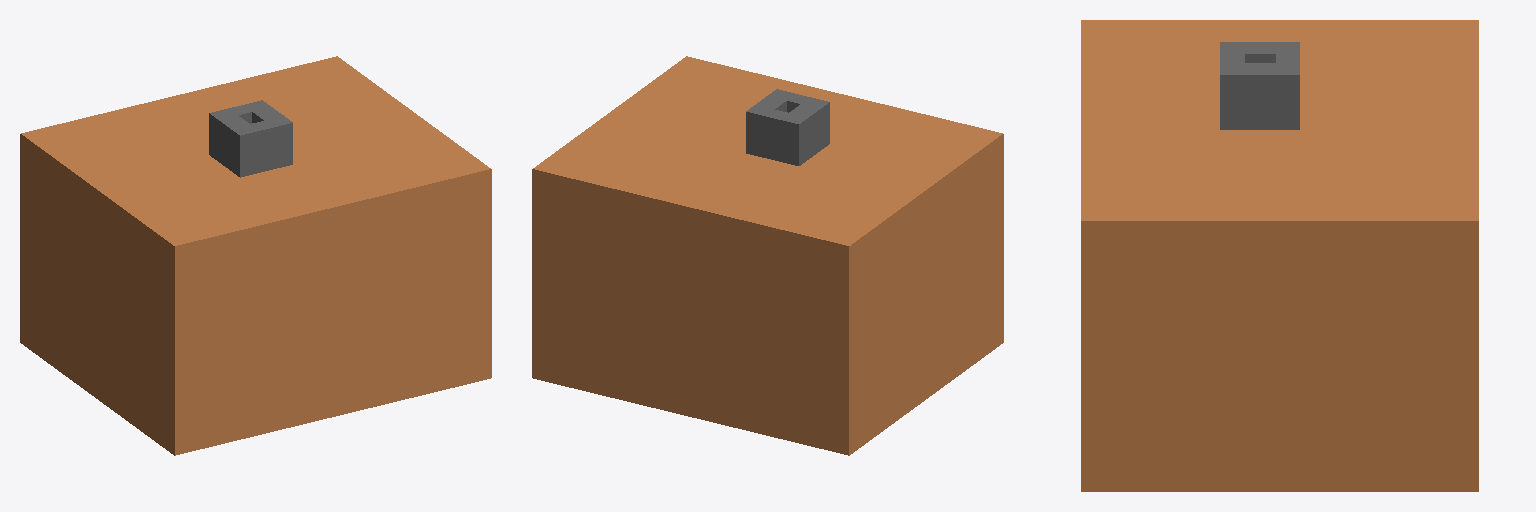
robot.urdf — peg_in_hole_tolerances_scenes_val_scene_0009_tol09:
<?xml version="1.0"?>
<robot name="peg_in_hole_tolerances_scenes_val_scene_0009_tol09">
  <material name="wood"><color rgba="0.82 0.56 0.35 1.0"/></material>
  <material name="hole_grey"><color rgba="0.4706 0.4706 0.4706 1.0"/></material>
  <link name="box">
    <visual>
      <origin xyz="0.000000 0.000000 0.000000" rpy="0 0 0"/>
      <geometry><box size="0.475000 0.400000 0.300000"/></geometry>
      <material name="wood"/>
    </visual>
    <collision>
      <origin xyz="0.000000 0.000000 0.000000" rpy="0 0 0"/>
      <geometry><box size="0.475000 0.400000 0.300000"/></geometry>
    </collision>
    <visual>
      <origin xyz="-0.018497 -0.019793 0.155000" rpy="0 0 0"/>
      <geometry><box size="0.080000 0.080000 0.010000"/></geometry>
      <material name="hole_grey"/>
    </visual>
    <collision>
      <origin xyz="-0.018497 -0.019793 0.155000" rpy="0 0 0"/>
      <geometry><box size="0.080000 0.080000 0.010000"/></geometry>
    </collision>
    <visual>
      <origin xyz="0.006745 -0.019793 0.185000" rpy="0 0 0"/>
      <geometry><box size="0.029515 0.080000 0.050000"/></geometry>
      <material name="hole_grey"/>
    </visual>
    <collision>
      <origin xyz="0.006745 -0.019793 0.185000" rpy="0 0 0"/>
      <geometry><box size="0.029515 0.080000 0.050000"/></geometry>
    </collision>
    <visual>
      <origin xyz="-0.043739 -0.019793 0.185000" rpy="0 0 0"/>
      <geometry><box size="0.029515 0.080000 0.050000"/></geometry>
      <material name="hole_grey"/>
    </visual>
    <collision>
      <origin xyz="-0.043739 -0.019793 0.185000" rpy="0 0 0"/>
      <geometry><box size="0.029515 0.080000 0.050000"/></geometry>
    </collision>
    <visual>
      <origin xyz="-0.018497 0.007949 0.185000" rpy="0 0 0"/>
      <geometry><box size="0.020969 0.024515 0.050000"/></geometry>
      <material name="hole_grey"/>
    </visual>
    <collision>
      <origin xyz="-0.018497 0.007949 0.185000" rpy="0 0 0"/>
      <geometry><box size="0.020969 0.024515 0.050000"/></geometry>
    </collision>
    <visual>
      <origin xyz="-0.018497 -0.047536 0.185000" rpy="0 0 0"/>
      <geometry><box size="0.020969 0.024515 0.050000"/></geometry>
      <material name="hole_grey"/>
    </visual>
    <collision>
      <origin xyz="-0.018497 -0.047536 0.185000" rpy="0 0 0"/>
      <geometry><box size="0.020969 0.024515 0.050000"/></geometry>
    </collision>
    <inertial>
      <mass value="500"/>
      <friction value="1.0"/>
      <inertia ixx="1000.0" ixy="0.0" ixz="0.0" iyy="1000.0" iyz="0.0" izz="1000.0"/>
    </inertial>
  </link>
</robot>

--- Facts derived from the render (not from the file) ---
3 views of the same robot in one strip: view 1: azimuth 30°, elevation 25°; view 2: azimuth 150°, elevation 25°; view 3: azimuth 270°, elevation 25° (orthographic).
Model peg_in_hole_tolerances_scenes_val_scene_0009_tol09 with 1 links and 0 joints (none), rooted at box, posed all joints at 0.
Links seen in each view (by area): view 1: box; view 2: box; view 3: box.
Boxes of the visible links, x1,y1,x2,y2 form: box: [20, 56, 491, 455]; box: [532, 56, 1003, 455]; box: [1081, 20, 1478, 491].
Size in the robot's own frame: 0.475 by 0.4 by 0.36 metres.
Geometry: primitives only (box / cylinder / sphere), no mesh files.
